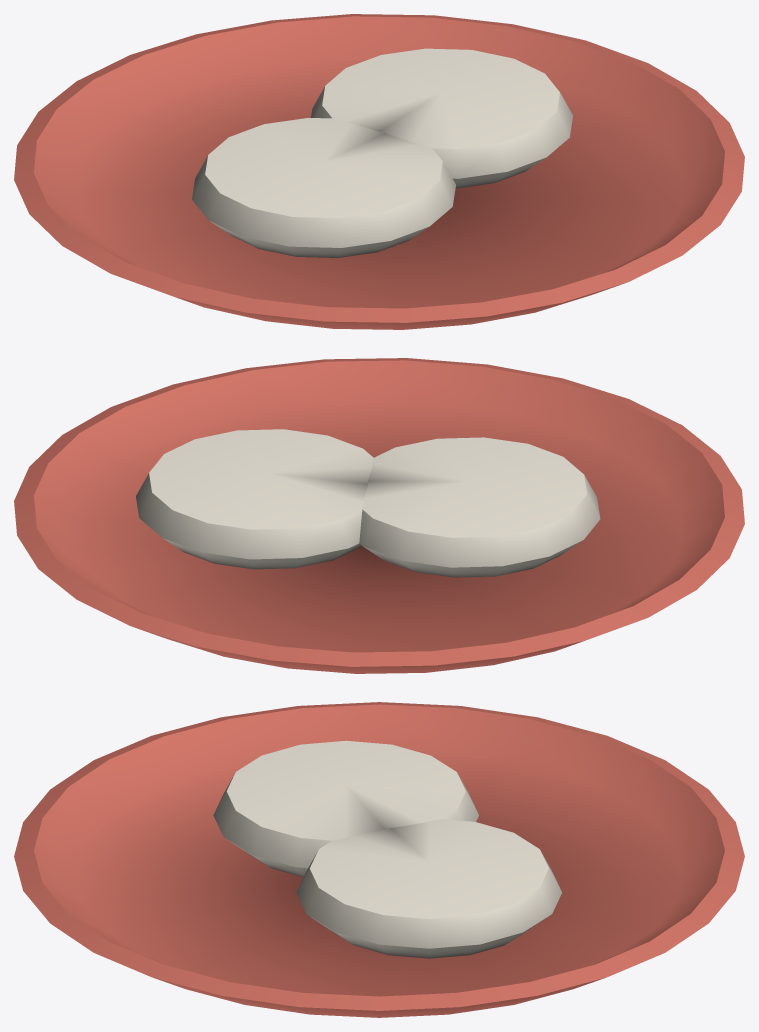
The model's file is dish_fry.glb.
3 views of the same model, one above another, from view 1: azimuth 30°, elevation 25°; view 2: azimuth 150°, elevation 25°; view 3: azimuth 270°, elevation 25° (orthographic).
Parts seen in each view (by area): view 1: PART; view 2: PART; view 3: PART.
Part boxes in pixels (<box>): PART: <box>14,14,744,329</box>; PART: <box>14,358,744,673</box>; PART: <box>14,702,744,1017</box>.
Size of the model in its own units: 0.22 by 0.032 by 0.22.
